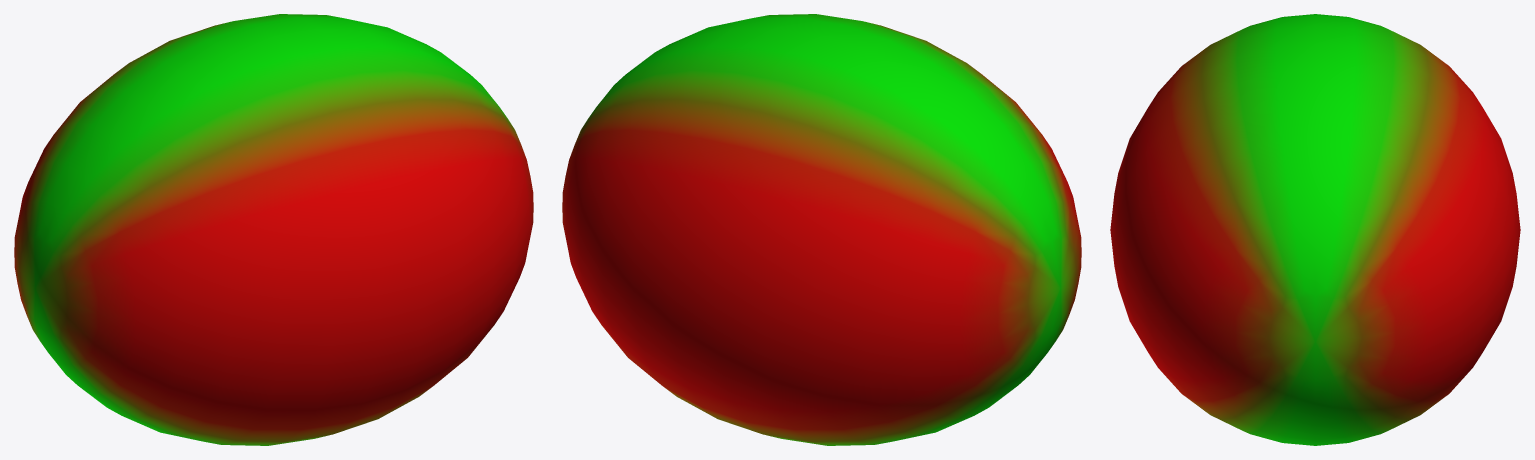
The model's file is SM_HP_Spheroid_01.FBX.
3 views of the same model, side by side, from view 1: azimuth 30°, elevation 25°; view 2: azimuth 150°, elevation 25°; view 3: azimuth 270°, elevation 25° (orthographic). The views are drawn at different scales.
Parts seen in each view (by area): view 1: SM_HP_Spheroid_01; view 2: SM_HP_Spheroid_01; view 3: SM_HP_Spheroid_01.
Boxes of the visible parts, x1,y1,x2,y2 form: SM_HP_Spheroid_01: [14, 14, 533, 445]; SM_HP_Spheroid_01: [562, 14, 1081, 445]; SM_HP_Spheroid_01: [1110, 14, 1520, 445].
Bounding box in the file's own units: 14.32 × 11.09 × 11.09.
